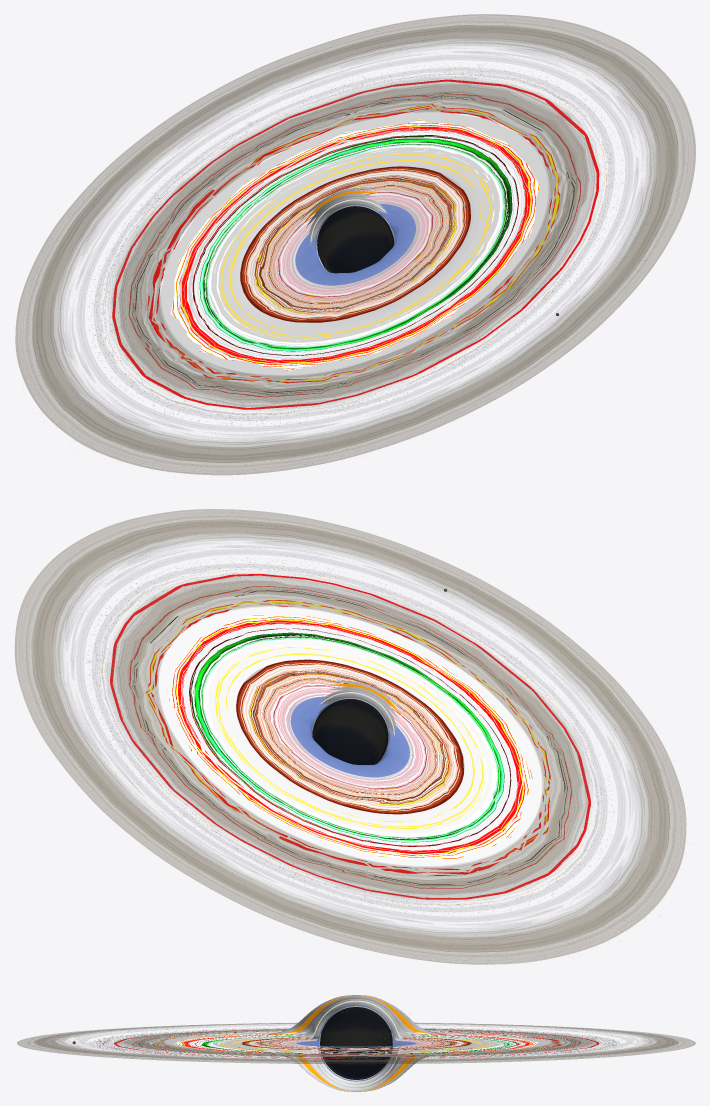
File: black-hole.glb
3 renders of one model, top to bottom at view 1: azimuth 30°, elevation 25°; view 2: azimuth 150°, elevation 25°; view 3: azimuth 270°, elevation 25°, orthographic. The views are drawn at different scales.
Parts seen in each view (by area): view 1: black hole_ring_ring_0, black hole_black hole blackoutside_0, black hole_black hole light3_0, black hole_black hole light2_0, black hole_black hole center_0, black hole_black hole light1_0; view 2: black hole_ring_ring_0, black hole_black hole blackoutside_0, black hole_black hole light3_0, black hole_black hole light2_0, black hole_black hole center_0, black hole_black hole light1_0; view 3: black hole_ring_ring_0, black hole_black hole blackoutside_0, black hole_black hole light3_0, black hole_black hole center_0, black hole_black hole light2_0, black hole_black hole light1_0, black hole_ring_ring2_0.
Part boxes in pixels (x1,y1,x2,y2): black hole_ring_ring_0: [15, 14, 695, 475]; black hole_black hole blackoutside_0: [133, 94, 577, 395]; black hole_black hole light3_0: [104, 74, 606, 414]; black hole_black hole light2_0: [240, 166, 471, 322]; black hole_black hole center_0: [317, 206, 394, 273]; black hole_black hole light1_0: [295, 187, 415, 285]; black hole_ring_ring_0: [15, 509, 686, 964]; black hole_black hole blackoutside_0: [131, 588, 569, 885]; black hole_black hole light3_0: [102, 569, 598, 904]; black hole_black hole light2_0: [236, 659, 464, 814]; black hole_black hole center_0: [312, 699, 388, 764]; black hole_black hole light1_0: [290, 680, 409, 777]; black hole_ring_ring_0: [17, 1023, 695, 1063]; black hole_black hole blackoutside_0: [135, 995, 577, 1091]; black hole_black hole light3_0: [106, 995, 606, 1091]; black hole_black hole center_0: [320, 1007, 392, 1079]; black hole_black hole light2_0: [241, 1000, 471, 1086]; black hole_black hole light1_0: [246, 995, 475, 1091]; black hole_ring_ring2_0: [88, 1027, 622, 1059].
Size of what is drawn, in the model's own units: 3097 by 1220 by 3298.
Materials: 8 (7 with a texture image).
